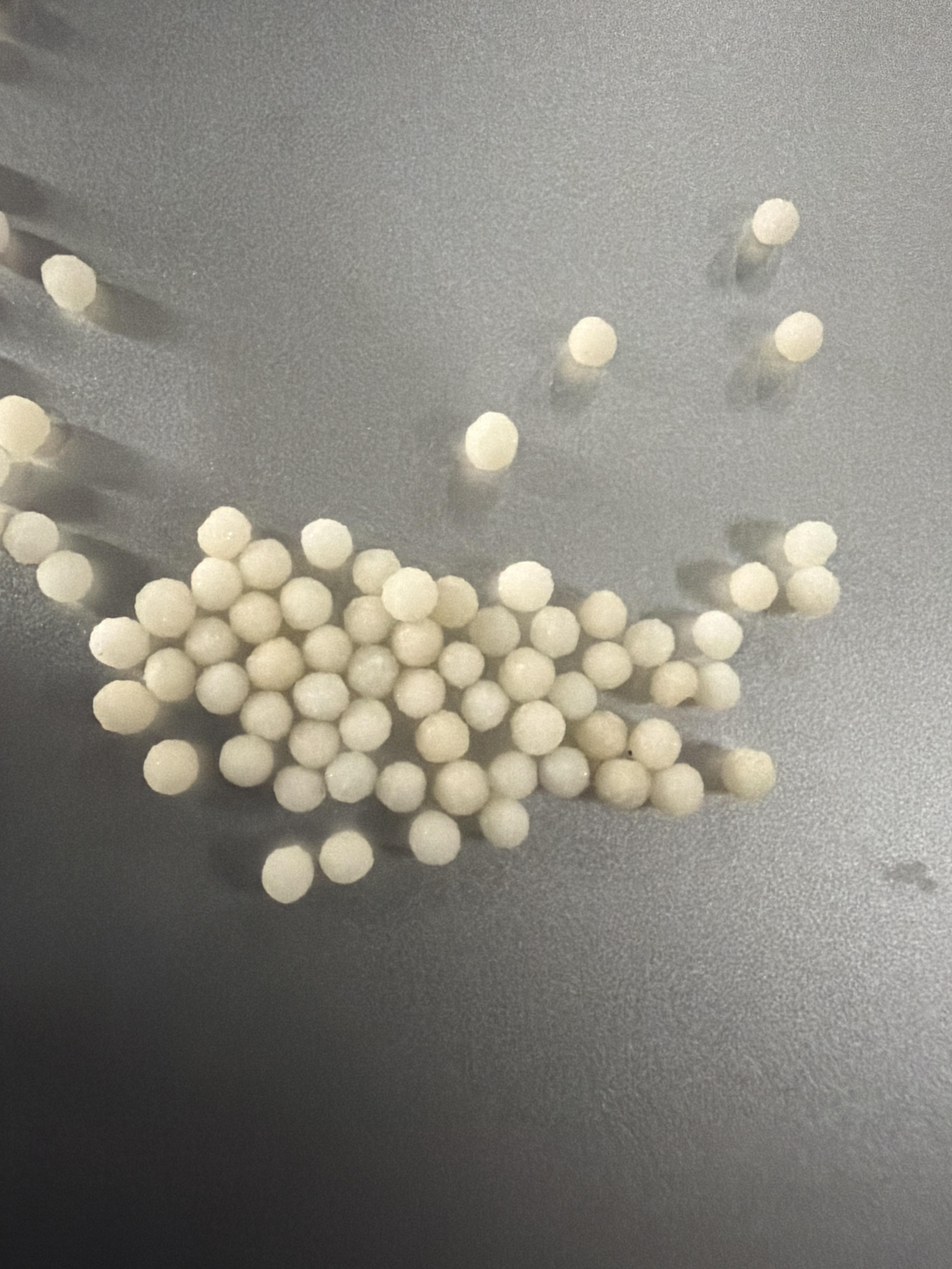pill: (134, 578, 196, 639), (93, 680, 159, 735), (0, 395, 51, 459), (433, 759, 490, 816), (245, 636, 304, 691), (89, 617, 150, 670), (498, 647, 555, 703), (143, 739, 200, 795), (41, 254, 96, 312), (465, 411, 518, 471), (381, 567, 439, 621), (262, 844, 314, 904), (510, 700, 565, 756), (143, 647, 198, 703), (37, 550, 94, 603), (2, 511, 59, 564), (228, 590, 282, 645), (190, 557, 244, 612), (197, 506, 252, 560), (408, 810, 461, 866), (218, 734, 274, 787), (319, 830, 373, 884), (338, 698, 392, 752), (649, 763, 704, 816), (195, 662, 250, 715), (595, 758, 652, 809), (497, 561, 554, 612), (293, 671, 350, 722), (346, 646, 400, 699), (279, 577, 332, 631), (237, 539, 292, 591), (415, 710, 468, 763), (324, 751, 377, 804), (721, 748, 775, 800), (627, 719, 681, 771), (467, 605, 521, 657), (785, 566, 840, 617), (300, 519, 353, 571), (574, 710, 628, 761), (184, 616, 239, 666), (538, 746, 590, 798), (374, 761, 426, 813), (240, 691, 293, 742), (529, 606, 580, 658), (691, 609, 742, 660), (479, 797, 529, 849), (393, 669, 445, 719), (430, 575, 478, 629), (728, 561, 778, 612), (548, 671, 598, 722), (487, 750, 538, 800), (460, 680, 510, 731), (288, 719, 339, 769), (343, 595, 394, 645), (623, 619, 675, 668), (391, 618, 443, 667), (773, 311, 822, 363), (568, 316, 617, 368), (783, 522, 837, 569), (582, 641, 632, 691), (302, 625, 354, 673), (578, 589, 627, 639), (273, 766, 325, 813), (437, 641, 485, 689), (751, 198, 799, 246), (649, 661, 698, 708), (352, 548, 400, 595), (694, 662, 740, 709)
